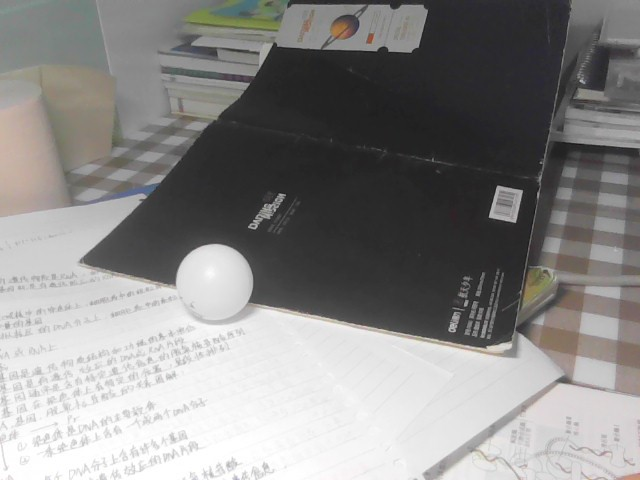ball: (177, 240, 254, 324)
